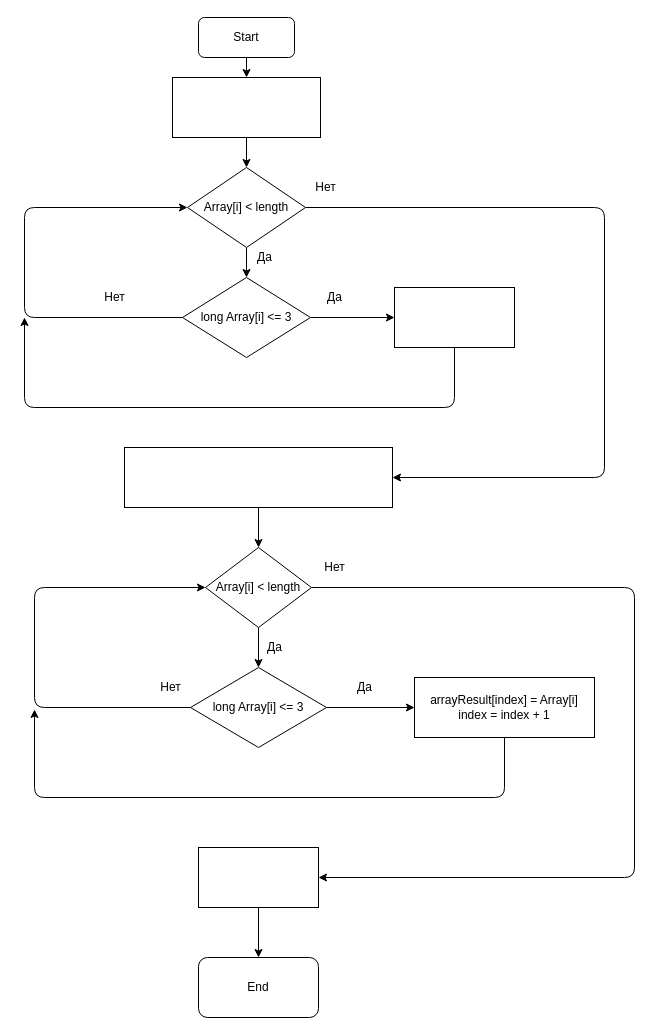
This 660x1035 diagram has some shape labels left out. The centre of each missing label's shape, as x and y in pixels:
amount = amount + 1: (454,317)
Create Array (arrayResult) = length [amount] index = 0 i = 0: (258,477)
Create Array - length [x] amount = 0 i = 0: (246,107)
Print arrayResult: (258,877)
